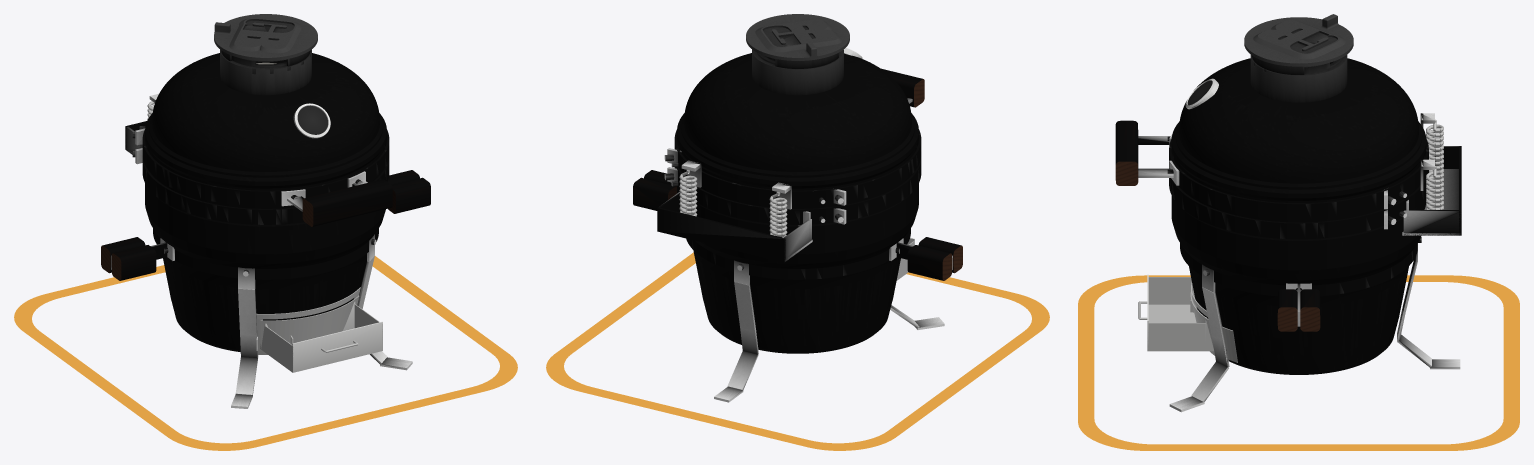
File: grill-bill-pro-3-medium-16-v11.glb
The picture shows the model from 3 angles, left to right: view 1: azimuth 30°, elevation 25°; view 2: azimuth 150°, elevation 25°; view 3: azimuth 270°, elevation 25°; orthographic projection. The views are drawn at different scales.
Parts seen in each view (by area): view 1: base, lid; view 2: base, lid; view 3: base, lid.
Part boxes in pixels (x1,y1,x2,y2): base: (14,101,517,450); lid: (132,14,392,226); base: (546,145,1049,450); lid: (664,14,924,209); base: (1078,119,1519,450); lid: (1115,14,1434,219).
Bounding box in the file's own units: 0.6441 × 0.5715 × 0.6853.
Materials: 20 (7 with a texture image).
